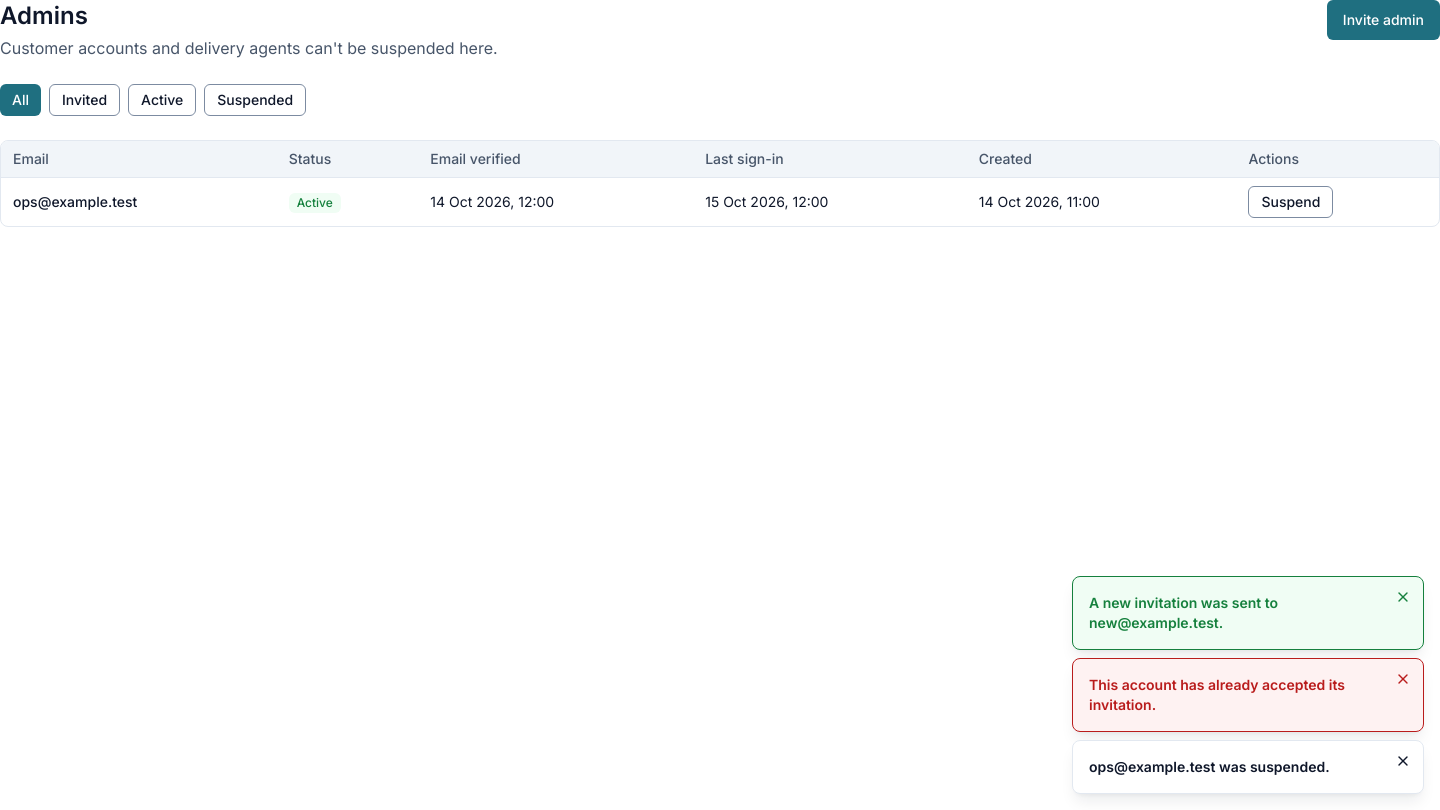
Test: admins (spec 03 AD-03) › suspend refused with CANNOT_SUSPEND_SELF: closes, explains, refetches
This screenshot has width=1440, height=810.
Click the button "Suspend": point(1291, 202) [1248,186,1333,218]
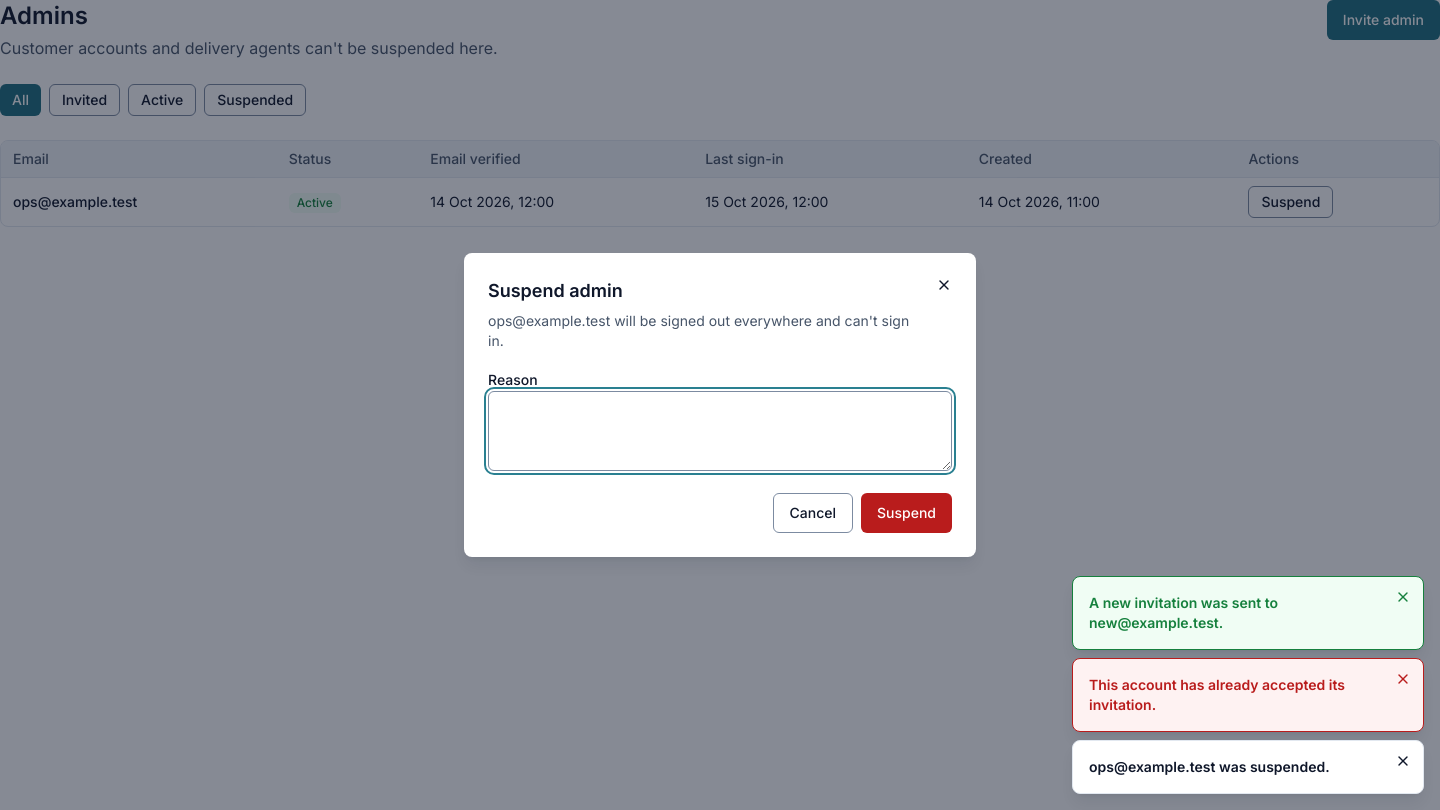
In the text box labelled "Reason": point(720, 431) [488,391,952,471], type "Security review"
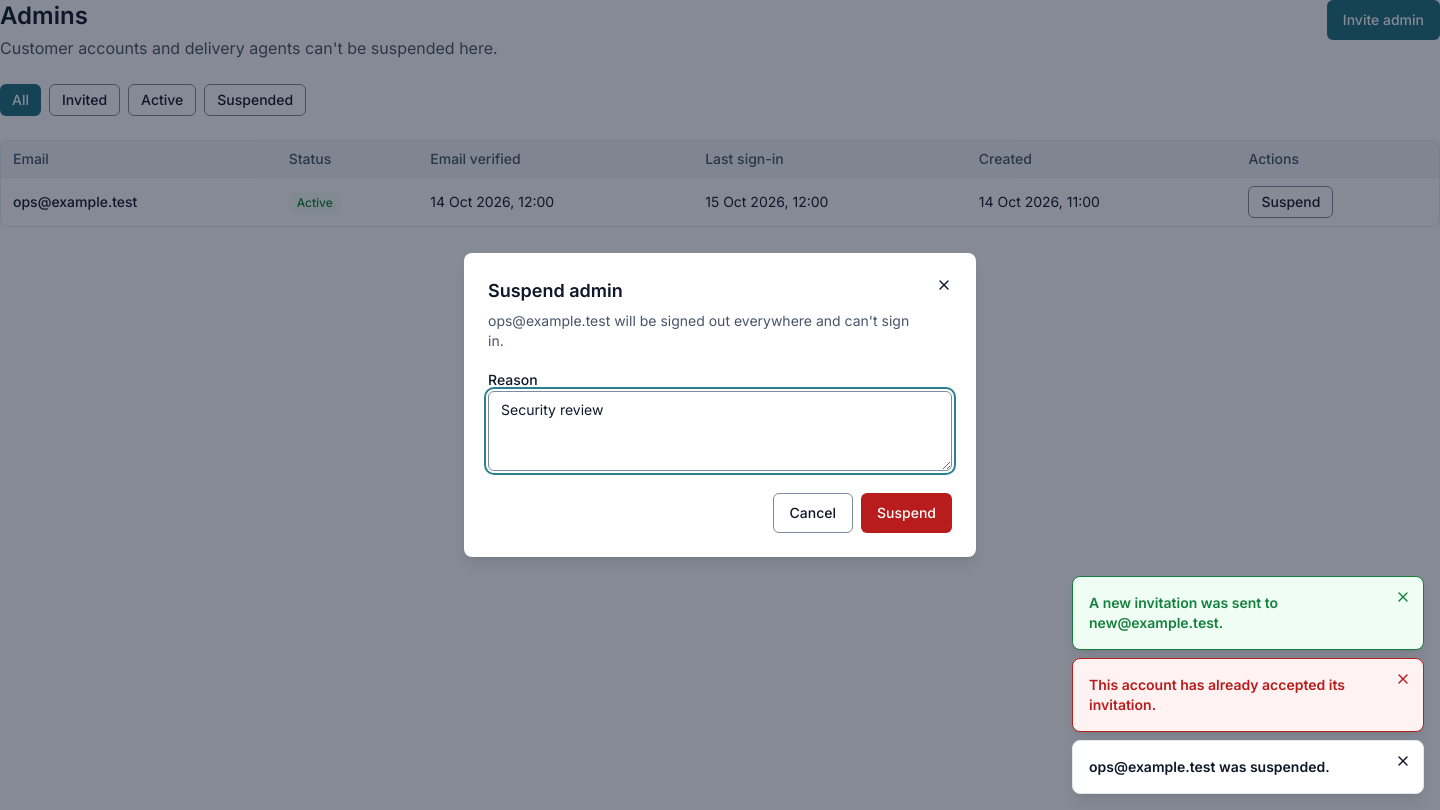
Click the button "Suspend": point(906, 513) [861,493,952,533]
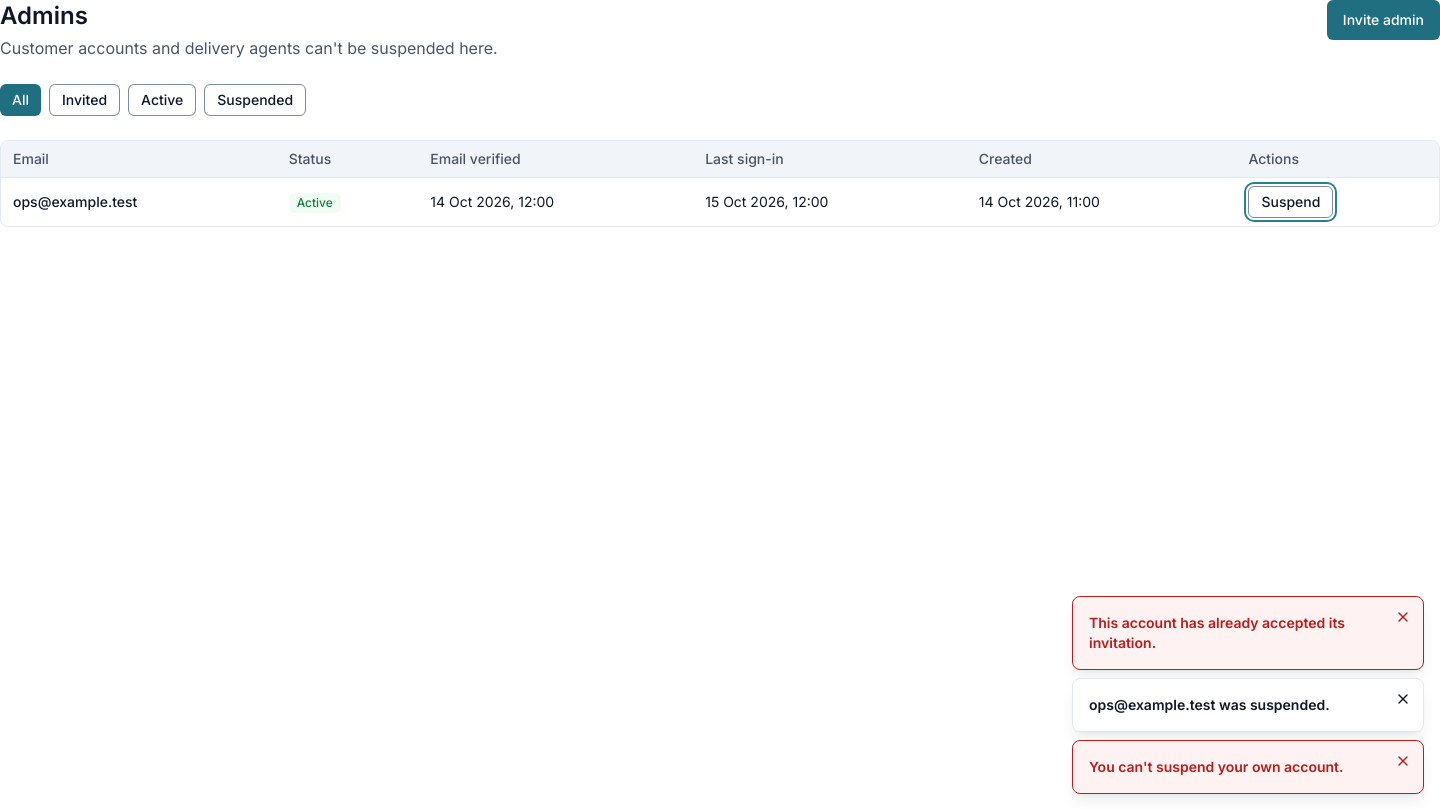
Check: the text "You can't suspend your own account." is shown, box [1089,757,1383,777]
Check: the dialog is gone
